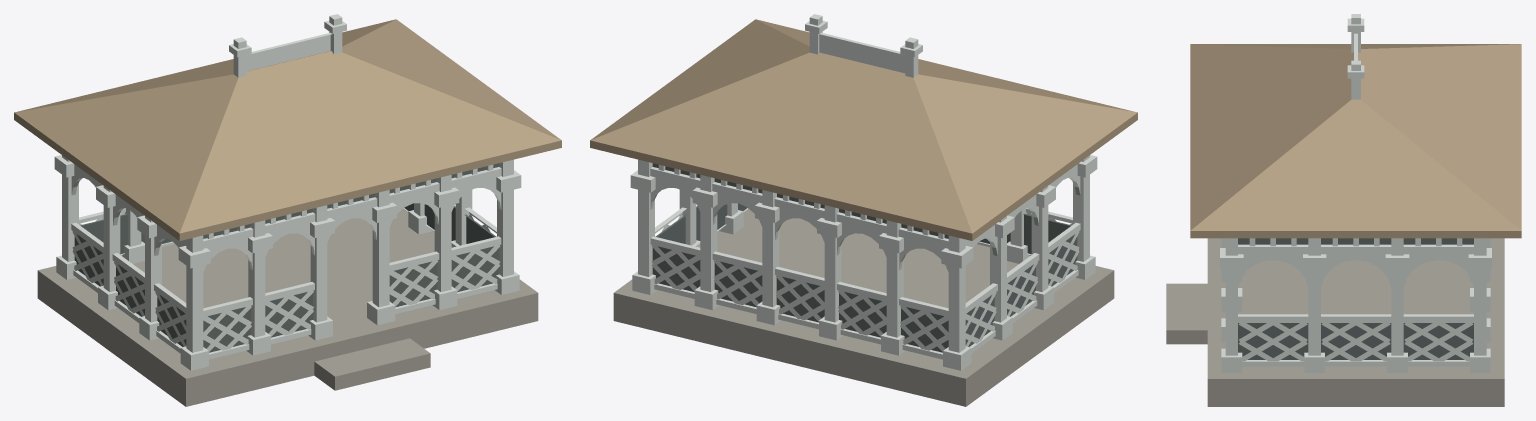
File: nyc-ladies-pavilion.glb
The picture shows the model from 3 angles, left to right: view 1: azimuth 30°, elevation 25°; view 2: azimuth 150°, elevation 25°; view 3: azimuth 270°, elevation 25°; orthographic projection.
Parts seen in each view (by area): view 1: Ladies' Pavilion; view 2: Ladies' Pavilion; view 3: Ladies' Pavilion.
Part boxes in pixels (x1,y1,x2,y2): Ladies' Pavilion: [14, 14, 561, 406]; Ladies' Pavilion: [590, 14, 1137, 406]; Ladies' Pavilion: [1166, 14, 1521, 406].
Size of the model in its own units: 6.4 by 4.5 by 5.15.
